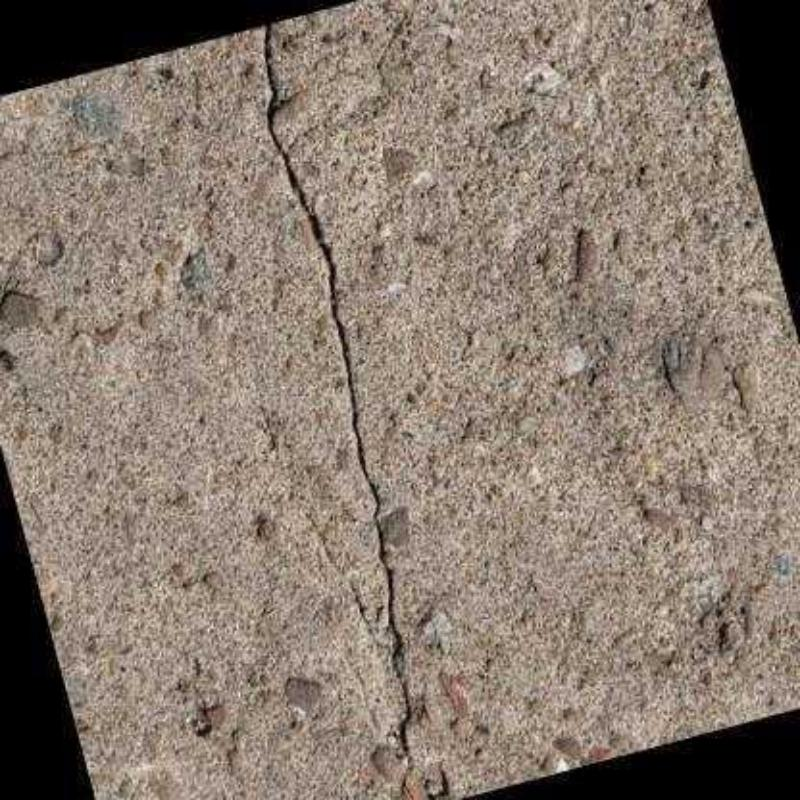pothole: (256, 22, 453, 800)
